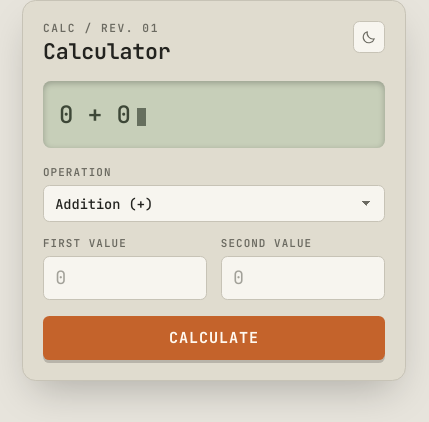
it: Calculator › hides the second input for unary operations like square root
Select "Square Root (√a)" in the dropdown labelled "Operation" at (214, 204), box [43,185,385,222]
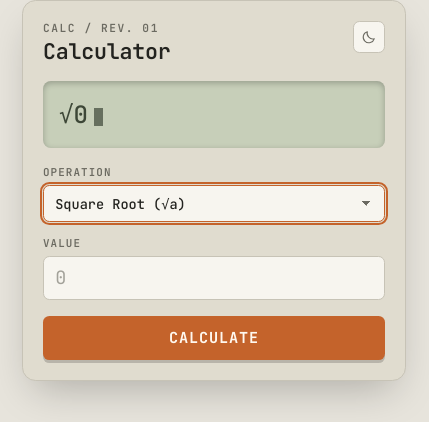
Check: the number field labelled "Value" is shown, box [43,256,385,300]
Check: the text labelled "Second value" is gone
